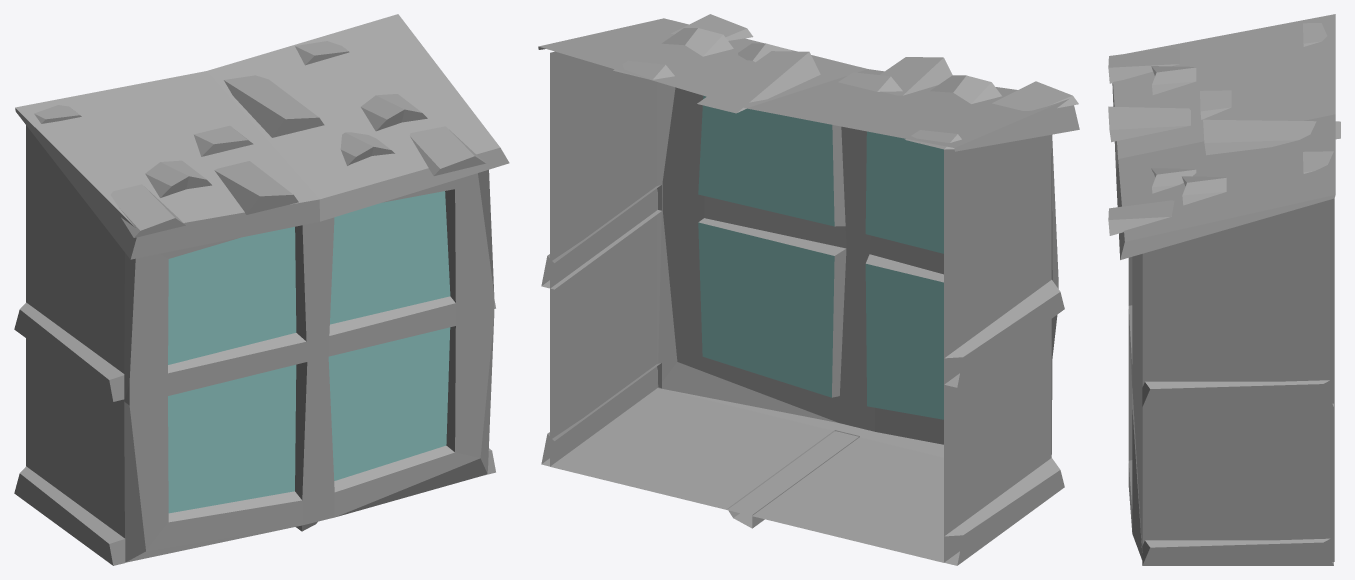
File: SM_L_Modular_Popup_Square_window.fbx
3 renders of one model, left to right at view 1: azimuth 30°, elevation 25°; view 2: azimuth 150°, elevation 25°; view 3: azimuth 270°, elevation 25°, orthographic. The views are drawn at different scales.
Parts seen in each view (by area): view 1: SM_Pop_Up_Square_Window; view 2: SM_Pop_Up_Square_Window; view 3: SM_Pop_Up_Square_Window.
Part boxes in pixels (x1,y1,x2,y2): SM_Pop_Up_Square_Window: (14, 14, 509, 565); SM_Pop_Up_Square_Window: (538, 14, 1079, 565); SM_Pop_Up_Square_Window: (1108, 14, 1340, 565).
Bounding box in the file's own units: 1.03 × 1.02 × 0.5589.
